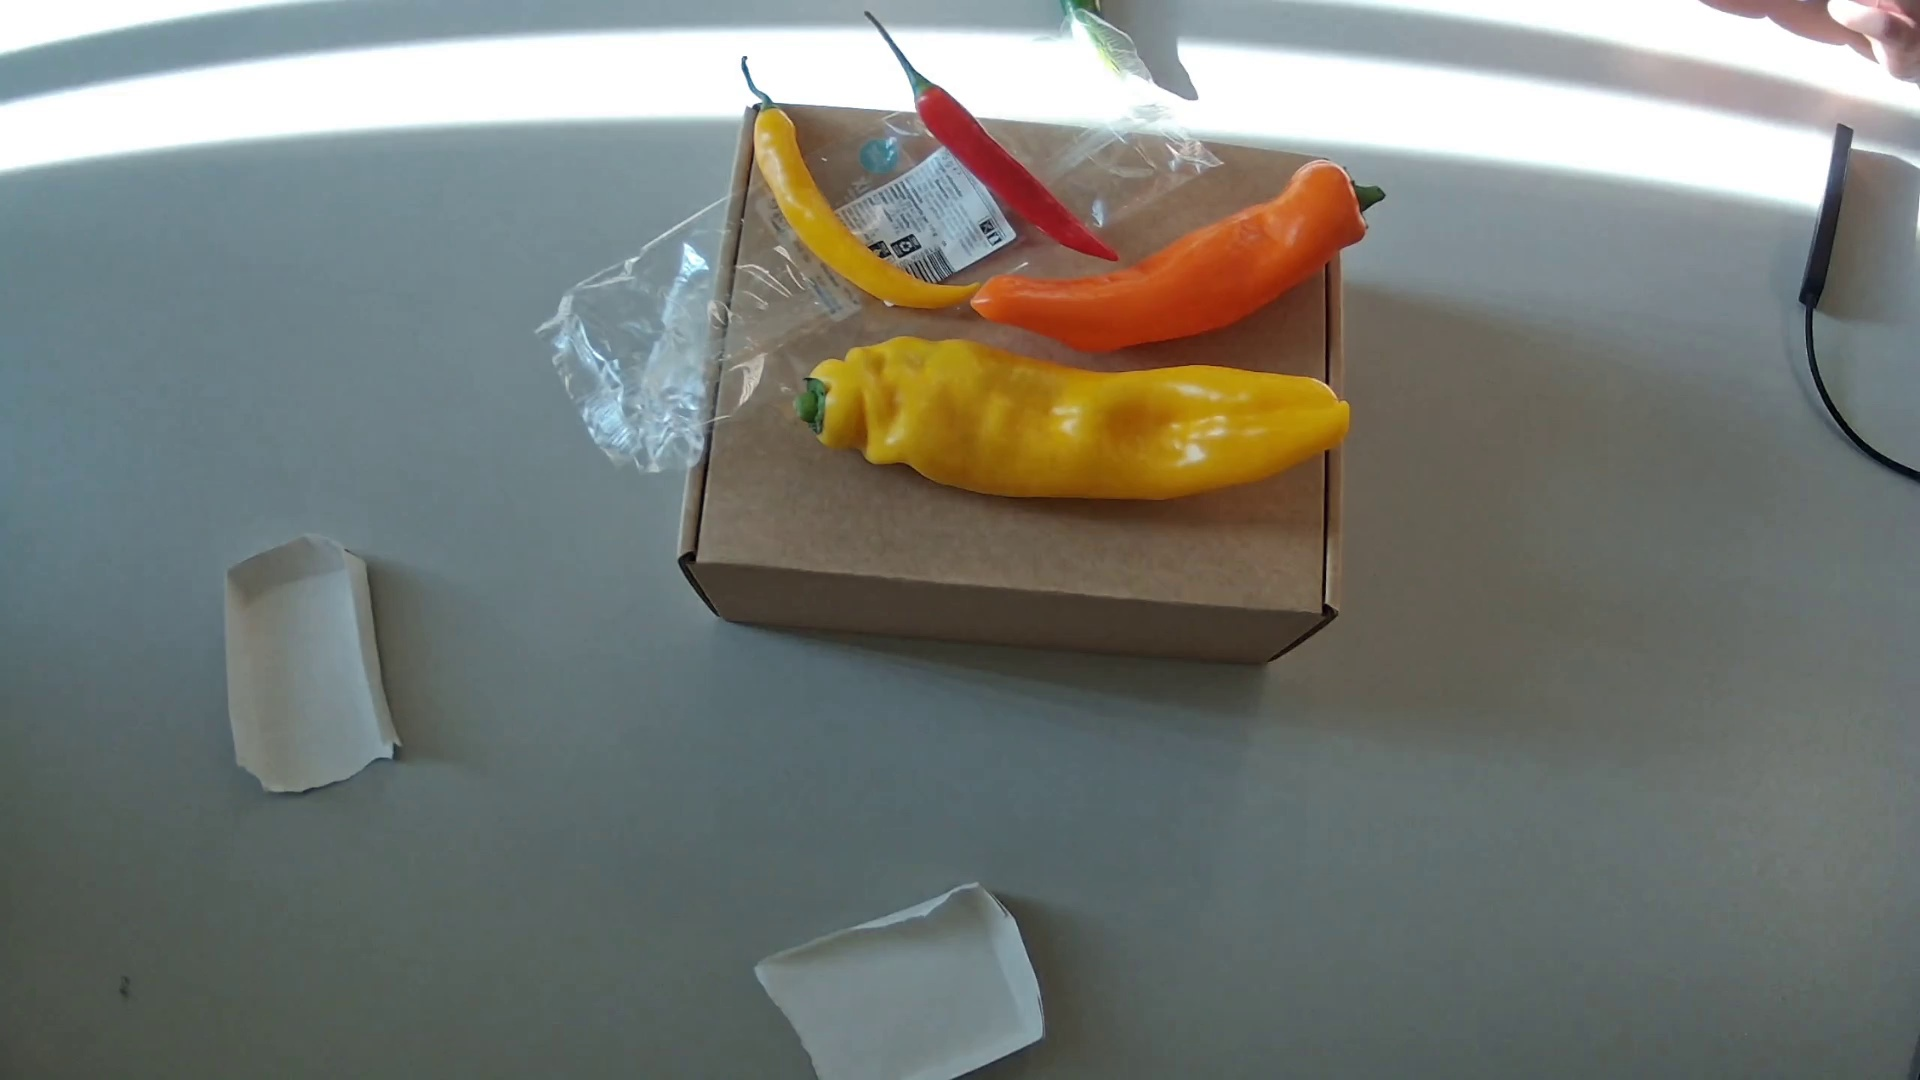Spanish_Pepper_Red: (864, 11, 1118, 262)
Spanish_Pepper_Yellow: (742, 55, 978, 307)
Sweet_Pepper_Orange: (972, 160, 1386, 353)
Sweet_Pepper_Yellow: (795, 336, 1382, 501)
